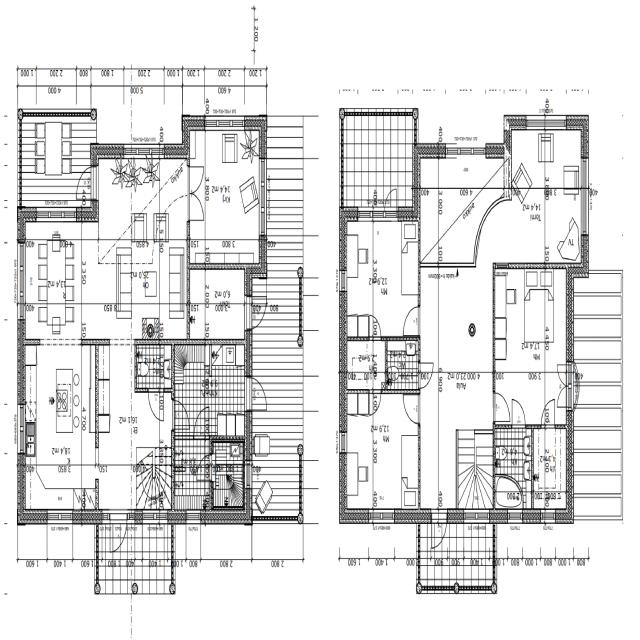door: (245, 296, 269, 330), (244, 378, 268, 410), (74, 167, 98, 199), (110, 509, 126, 556), (432, 508, 446, 552), (148, 388, 164, 421), (194, 407, 209, 440), (172, 400, 189, 429), (187, 192, 204, 220), (403, 394, 420, 422), (403, 307, 420, 335), (187, 165, 204, 192), (493, 393, 509, 421), (384, 184, 396, 221), (197, 455, 213, 480), (512, 399, 525, 428), (418, 363, 433, 387), (556, 367, 574, 387), (556, 387, 574, 407), (542, 399, 554, 428), (370, 389, 380, 415), (370, 315, 380, 341)
